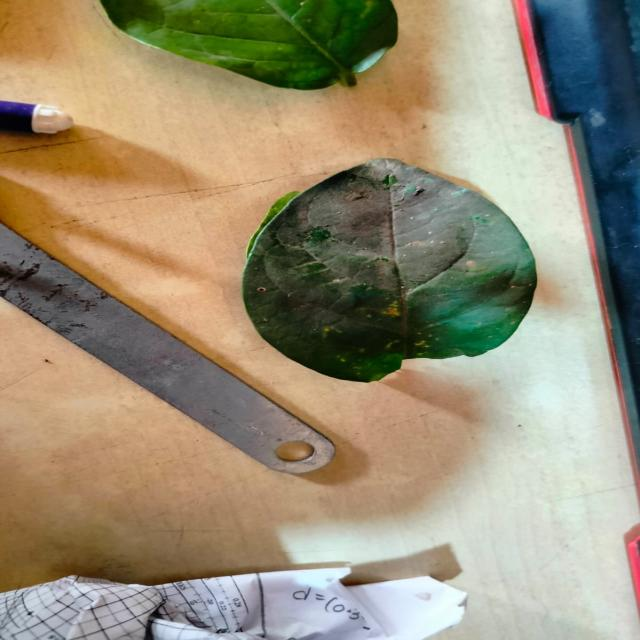Leaves: (241, 160, 538, 385), (95, 0, 399, 93)
Metal: (0, 224, 368, 486)
